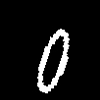chain: (37, 29, 68, 92)
